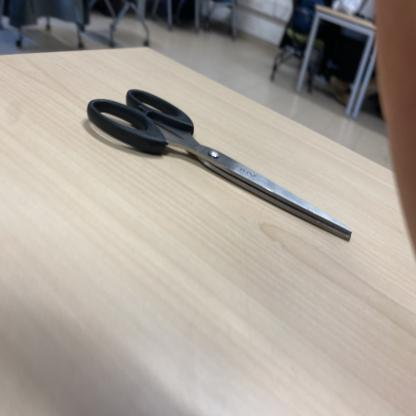scissors: (87, 90, 353, 243)
